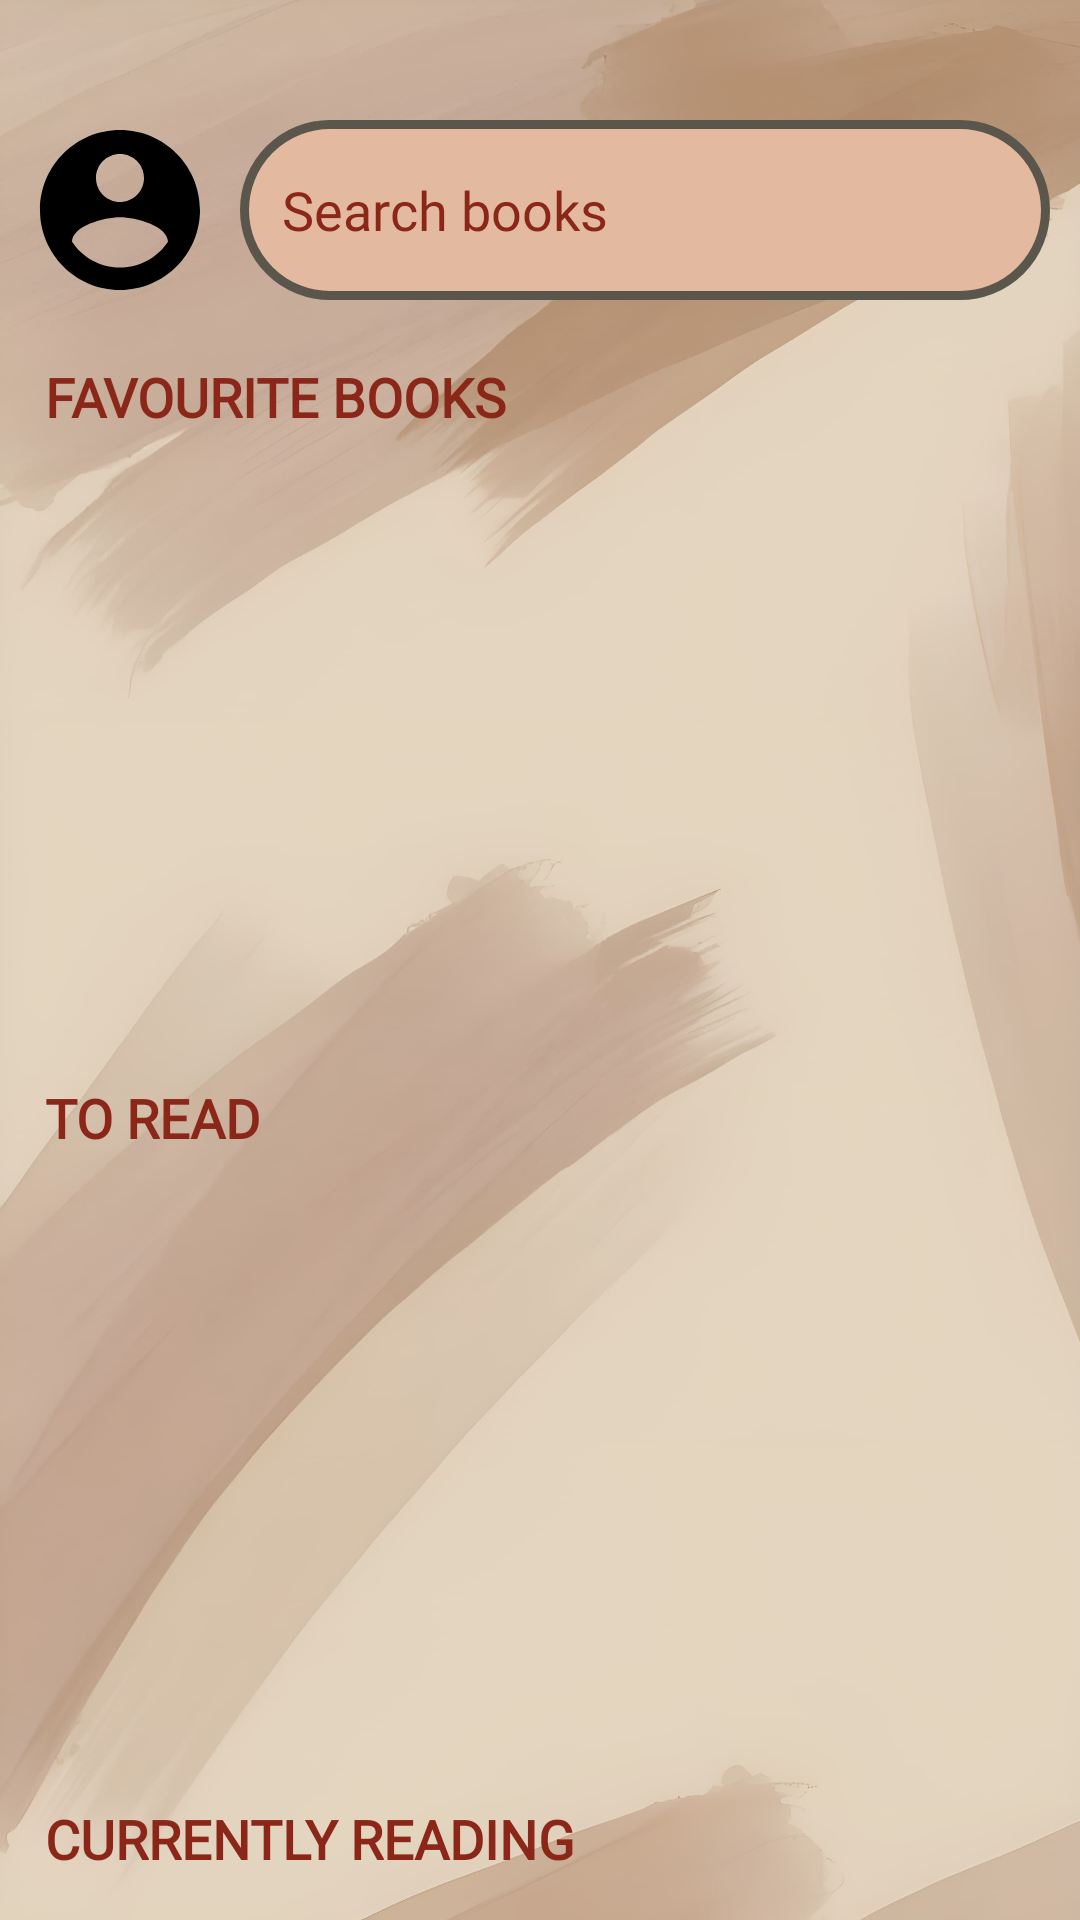

Screen size 1080×1920. Icon name, then its box in pixels as BBox(x1, y1, x2, y2):
Profile: BBox(40, 130, 200, 290)
